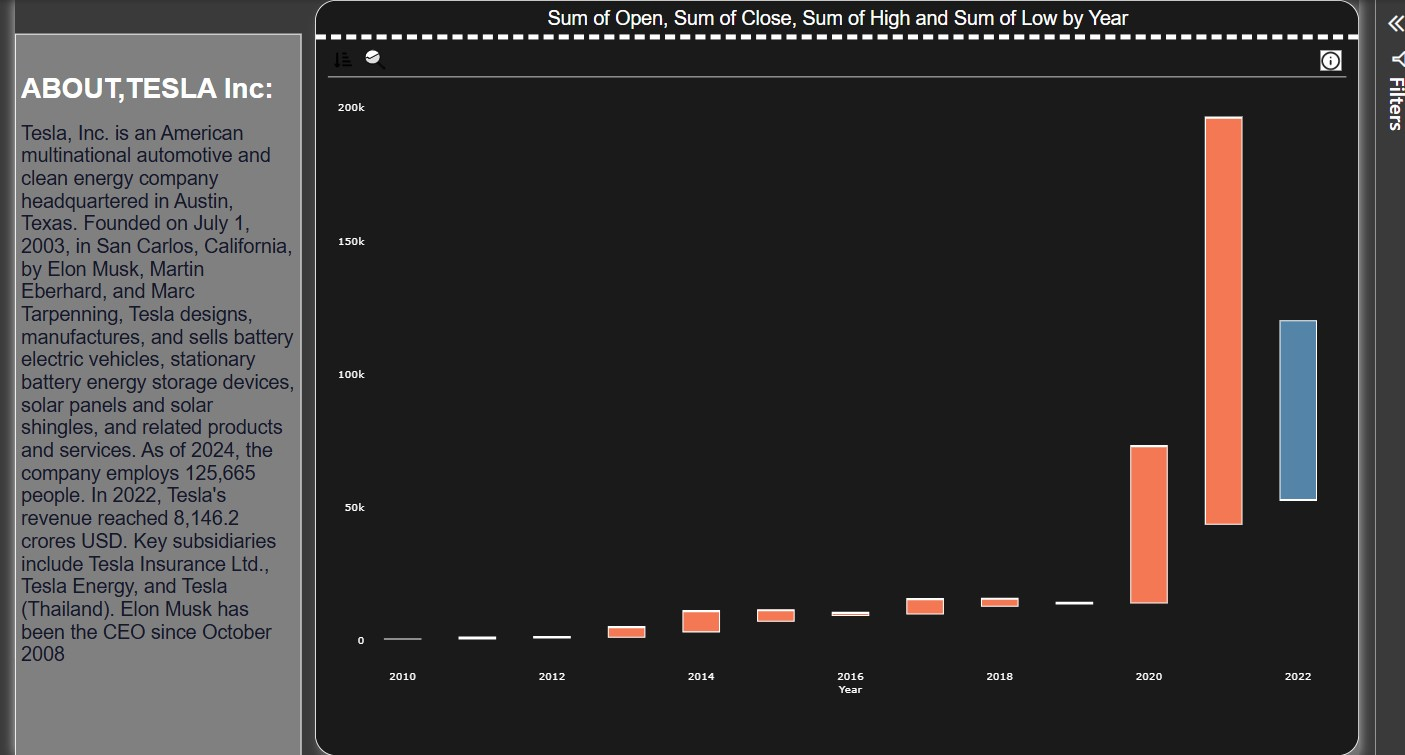

The page's visual inventory and layout, read from the dashboard file:
{"tool":"powerbi","page":{"name":"Page 2","canvas":[1280,720],"ordinal":1},"visuals":[{"type":"candlestickD7180D8F77642DBFBF61A4FEEE09DDBD","fields":{"col_0":["TSLA_PowerBI_Project.Date.Variation.Date Hierarchy.Year","TSLA_PowerBI_Project.Date.Variation.Date Hierarchy.Quarter","TSLA_PowerBI_Project.Date.Variation.Date Hierarchy.Month","TSLA_PowerBI_Project.Date.Variation.Date Hierarchy.Day"],"col_1":["TSLA_PowerBI_Project.Open"],"col_2":["TSLA_PowerBI_Project.Close"],"col_3":["TSLA_PowerBI_Project.High"],"col_4":["TSLA_PowerBI_Project.Low"]},"box":[285.7,0,994.1,720.2],"z":0},{"type":"textbox","box":[0,32.1,272.6,688.1],"z":1000}]}

Visuals, with their boxes on the page's 1280x720 design canvas (x1, y1, x2, y2). These are canvas units, not pixel positions in the 1405x755 screenshot, which may show the page scaled, cropped or inside an application window:
candlestickD7180D8F77642DBFBF61A4FEEE09DDBD - TSLA_PowerBI_Project.Date.Variation.Date Hierarchy.Year x TSLA_PowerBI_Project.Date.Variation.Date Hierarchy.Quarter: locate(286, 0, 1280, 720)
textbox: locate(0, 32, 273, 720)
